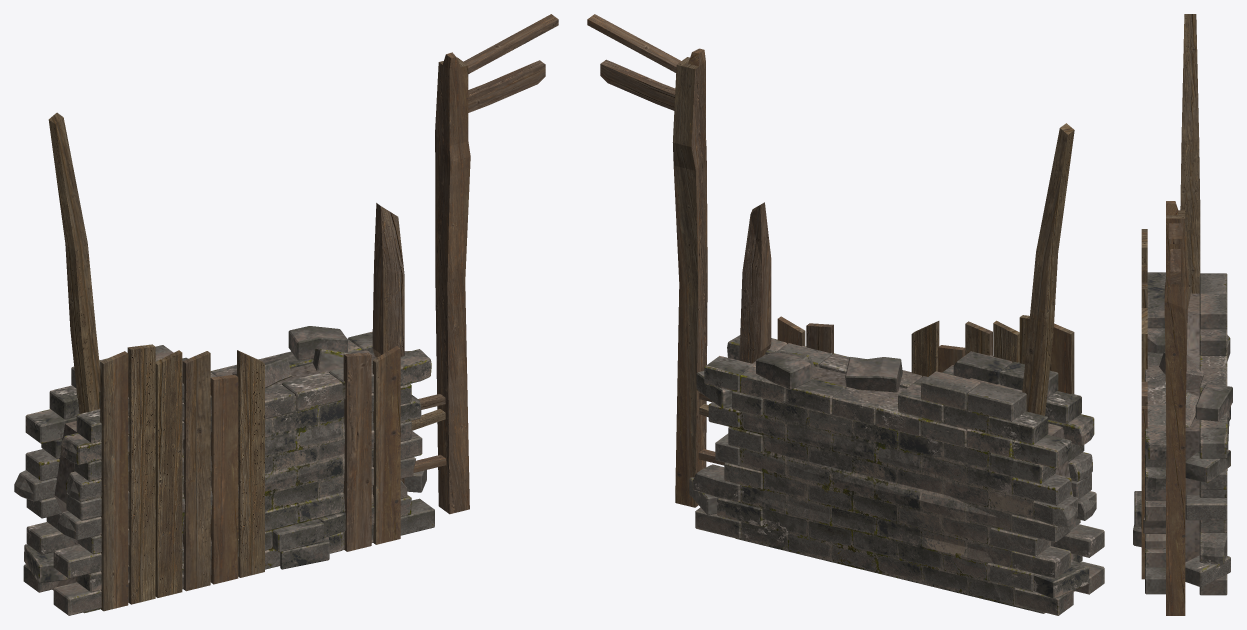
The model's file is SM_ASY_RuinsWall_StraightRight_01.fbx.
3 renders of one model, left to right at view 1: azimuth 30°, elevation 25°; view 2: azimuth 150°, elevation 25°; view 3: azimuth 270°, elevation 25°, orthographic. The views are drawn at different scales.
Visible parts, largest first — view 1: SM_ASY_RuinsWall_StraightRight_01.mo; view 2: SM_ASY_RuinsWall_StraightRight_01.mo; view 3: SM_ASY_RuinsWall_StraightRight_01.mo.
Boxes of the visible parts, x1,y1,x2,y2 form: SM_ASY_RuinsWall_StraightRight_01.mo: (14,14,558,615); SM_ASY_RuinsWall_StraightRight_01.mo: (587,14,1104,615); SM_ASY_RuinsWall_StraightRight_01.mo: (1133,14,1232,615).
Bounding box in the file's own units: 306 × 275 × 57.72.
